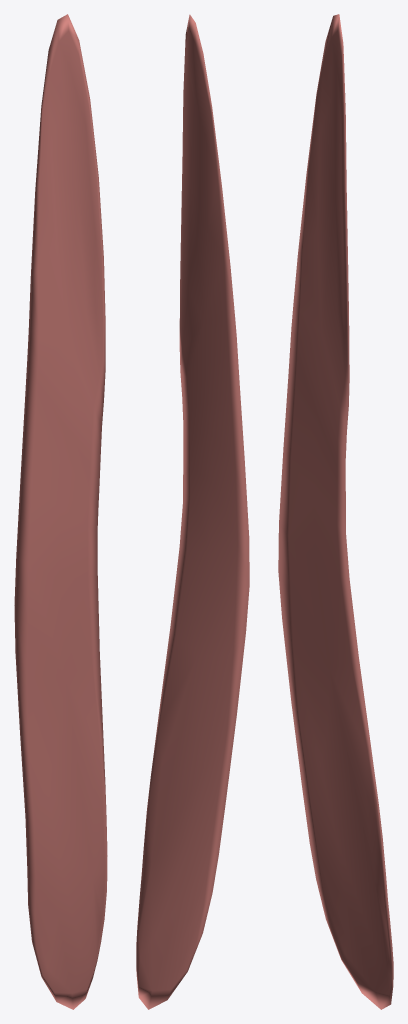
The picture shows the model from 3 angles, left to right: view 1: azimuth 30°, elevation 25°; view 2: azimuth 150°, elevation 25°; view 3: azimuth 330°, elevation 25°; orthographic projection. The views are drawn at different scales.
Parts seen in each view (by area): view 1: ZA_339d551da3ab69b2; view 2: ZA_339d551da3ab69b2; view 3: ZA_339d551da3ab69b2.
Part boxes in pixels (bbox=[...]): ZA_339d551da3ab69b2: bbox=[14, 14, 107, 1009]; ZA_339d551da3ab69b2: bbox=[136, 14, 249, 1009]; ZA_339d551da3ab69b2: bbox=[278, 14, 393, 1009].
Size of the model in its own units: 0.0146 by 0.1393 by 0.00808.
